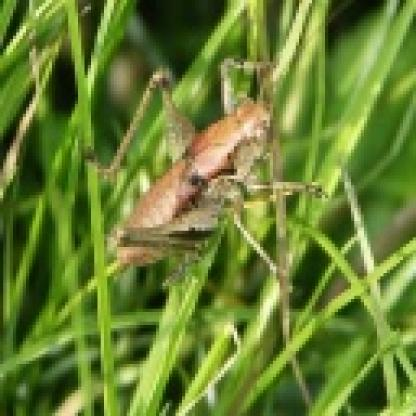grasshopper: (81, 53, 320, 328)
